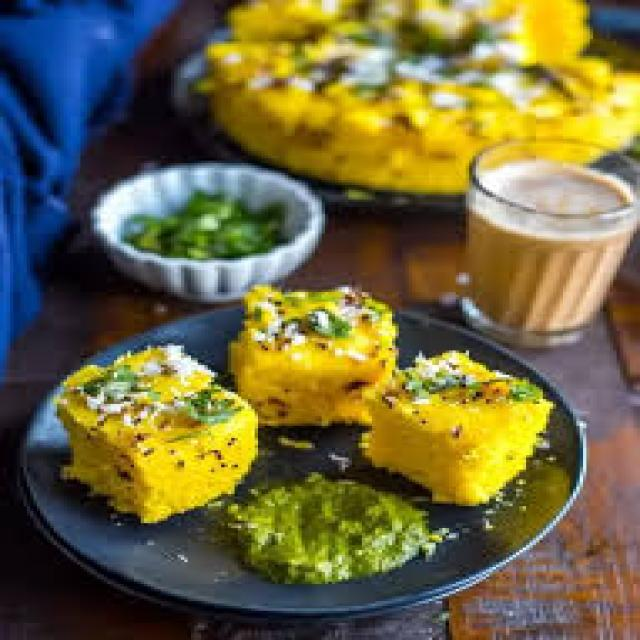DOSA: (53, 340, 262, 525)
